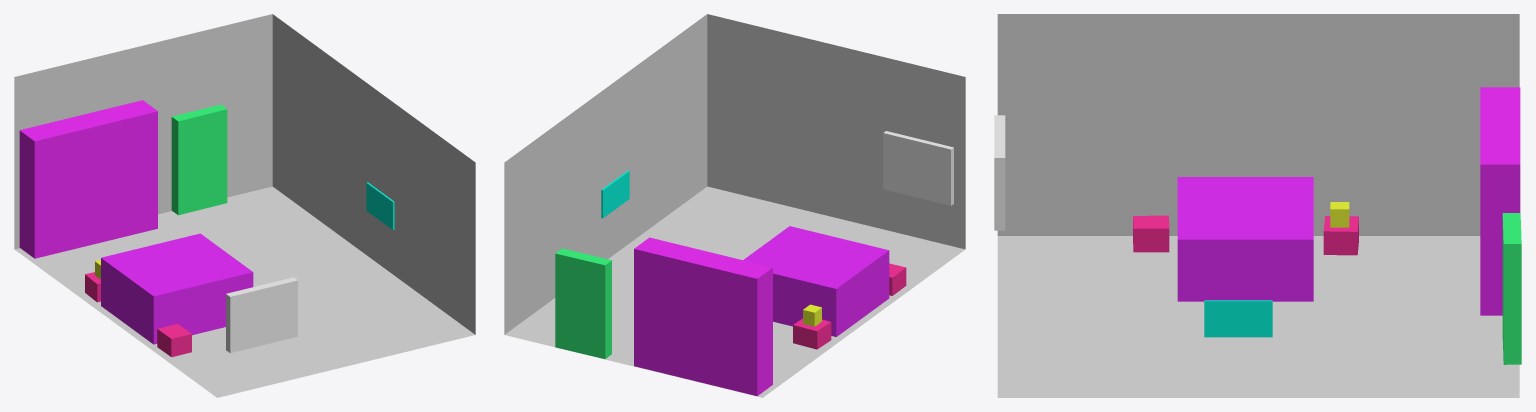
Rendered from bedroom_0000_input.glb.
3 renders of one model, left to right at view 1: azimuth 30°, elevation 25°; view 2: azimuth 150°, elevation 25°; view 3: azimuth 270°, elevation 25°, orthographic. The views are drawn at different scales.
Visible parts, largest first — view 1: background-volfusion-it1000-test, BBox_0003_cabinet, BBox_0000_bed, BBox_0001_door, BBox_0004_windowpane, BBox_0005_table, BBox_0002_television receiver; view 2: background-volfusion-it1000-test, BBox_0003_cabinet, BBox_0000_bed, BBox_0001_door, BBox_0004_windowpane, BBox_0006_table, BBox_0002_television receiver, BBox_0005_table; view 3: background-volfusion-it1000-test, BBox_0000_bed, BBox_0003_cabinet, BBox_0001_door, BBox_0002_television receiver, BBox_0004_windowpane, BBox_0005_table, BBox_0006_table, BBox_0007_lamp.
Boxes of the visible parts, x1=… form: background-volfusion-it1000-test: x1=14, y1=14, x2=475, y2=397; BBox_0003_cabinet: x1=19, y1=100, x2=157, y2=258; BBox_0000_bed: x1=101, y1=233, x2=253, y2=344; BBox_0001_door: x1=171, y1=104, x2=227, y2=215; BBox_0004_windowpane: x1=226, y1=277, x2=297, y2=353; BBox_0005_table: x1=157, y1=324, x2=191, y2=357; BBox_0002_television receiver: x1=366, y1=182, x2=394, y2=229; background-volfusion-it1000-test: x1=504, y1=14, x2=965, y2=397; BBox_0003_cabinet: x1=634, y1=237, x2=772, y2=396; BBox_0000_bed: x1=743, y1=226, x2=889, y2=336; BBox_0001_door: x1=555, y1=248, x2=611, y2=358; BBox_0004_windowpane: x1=883, y1=131, x2=953, y2=205; BBox_0006_table: x1=793, y1=318, x2=831, y2=349; BBox_0002_television receiver: x1=601, y1=170, x2=629, y2=218; BBox_0005_table: x1=889, y1=263, x2=906, y2=295; background-volfusion-it1000-test: x1=997, y1=14, x2=1519, y2=397; BBox_0000_bed: x1=1177, y1=177, x2=1313, y2=301; BBox_0003_cabinet: x1=1480, y1=87, x2=1520, y2=315; BBox_0001_door: x1=1502, y1=213, x2=1521, y2=364; BBox_0002_television receiver: x1=1204, y1=300, x2=1272, y2=337; BBox_0004_windowpane: x1=994, y1=115, x2=1005, y2=230; BBox_0005_table: x1=1133, y1=215, x2=1169, y2=252; BBox_0006_table: x1=1323, y1=216, x2=1358, y2=255; BBox_0007_lamp: x1=1330, y1=202, x2=1349, y2=227.
Size of the model in its own units: 5.76 by 3.67 by 7.91.
